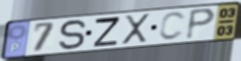7: (31, 21, 58, 54)
C: (158, 11, 188, 42)
P: (183, 7, 218, 42)
S: (57, 18, 88, 52)
X: (121, 13, 151, 47)
Z: (92, 16, 121, 48)
